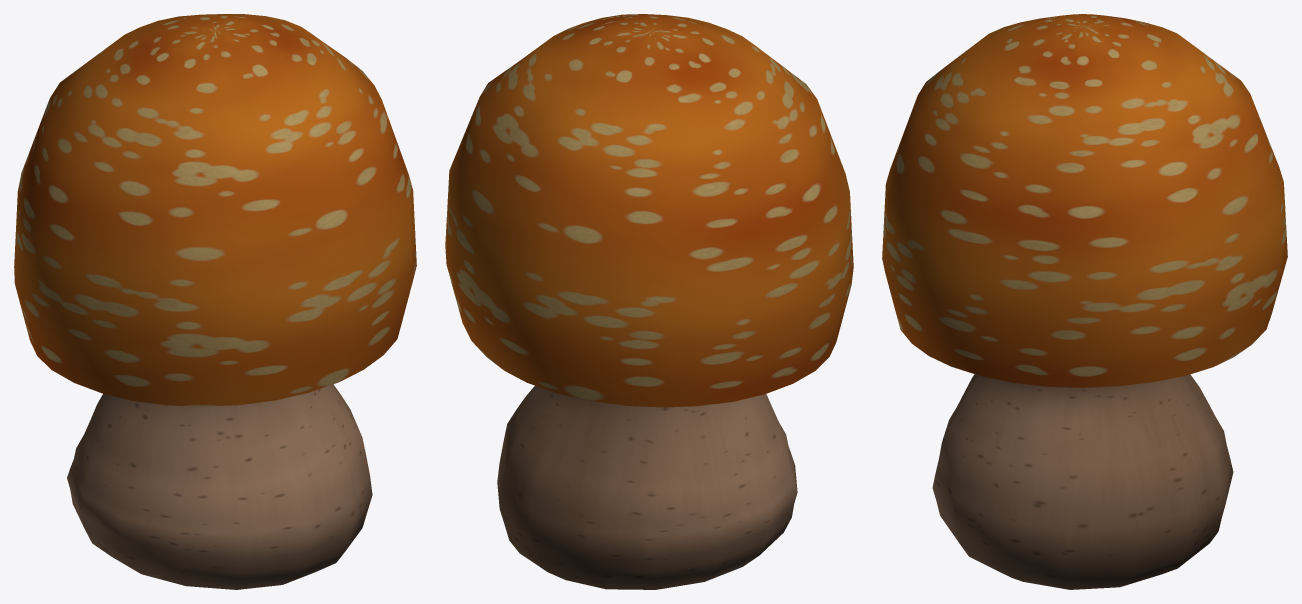
File: mm6_deco_mushrm02.glb
3 views of the same model, side by side, from view 1: azimuth 30°, elevation 25°; view 2: azimuth 150°, elevation 25°; view 3: azimuth 270°, elevation 25° (orthographic).
Parts seen in each view (by area): view 1: Mushrm02; view 2: Mushrm02; view 3: Mushrm02.
Part boxes in pixels (x1,y1,x2,y2): Mushrm02: (14, 14, 416, 589); Mushrm02: (445, 14, 853, 589); Mushrm02: (882, 14, 1287, 589).
Size of the model in its own units: 0.7651 by 1.08 by 0.7692.
Materials: 2 (2 with a texture image).
